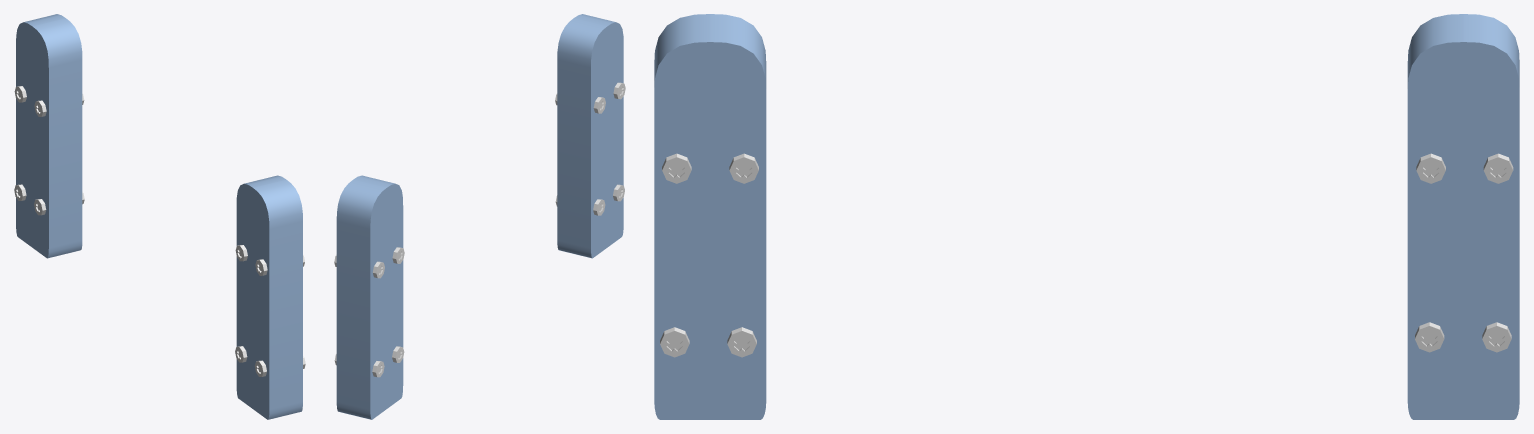
The model's file is vallaAZUL3FINAL.fbx.
The picture shows the model from 3 angles, left to right: view 1: azimuth 30°, elevation 25°; view 2: azimuth 150°, elevation 25°; view 3: azimuth 270°, elevation 25°; orthographic projection. The views are drawn at different scales.
Parts seen in each view (by area): view 1: Cube.007, Cube.005; view 2: Cube.007, Cube.005; view 3: Cube.007, Cube.005.
Part boxes in pixels (x1,y1,x2,y2): Cube.007: (16,14,82,258); Cube.005: (236,175,302,419); Cube.007: (336,175,403,419); Cube.005: (557,14,623,258); Cube.007: (1407,14,1519,419); Cube.005: (654,14,766,419).
Bounding box in the file's own units: 39.69 × 201 × 417.
